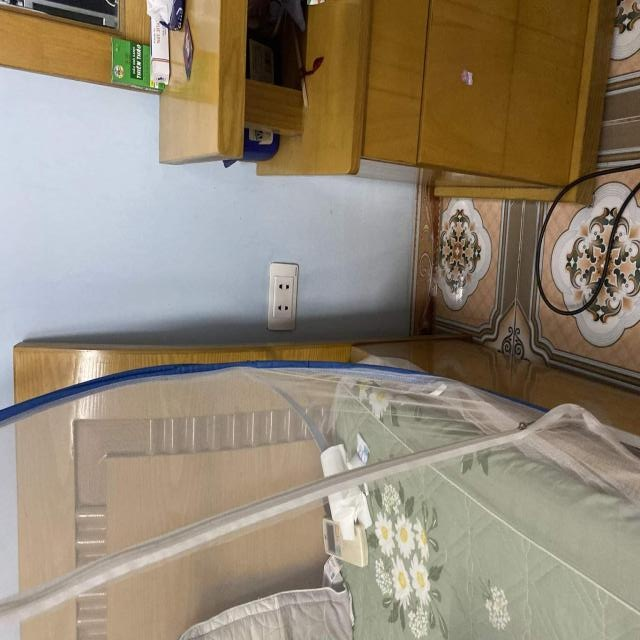outlet: (267, 263, 298, 332)
